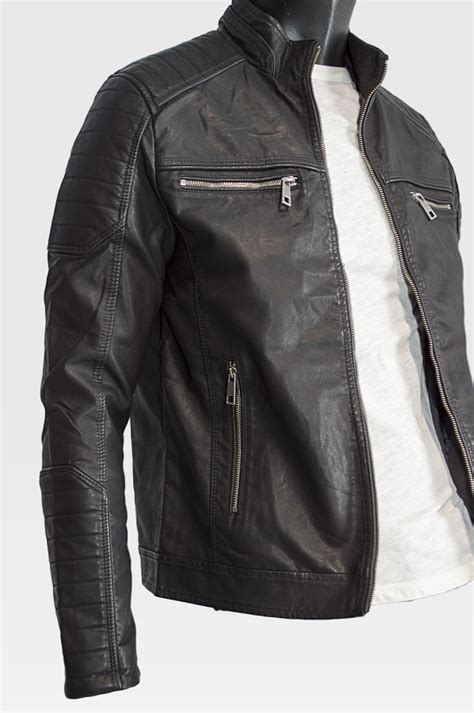cuero: (37, 5, 474, 703)
